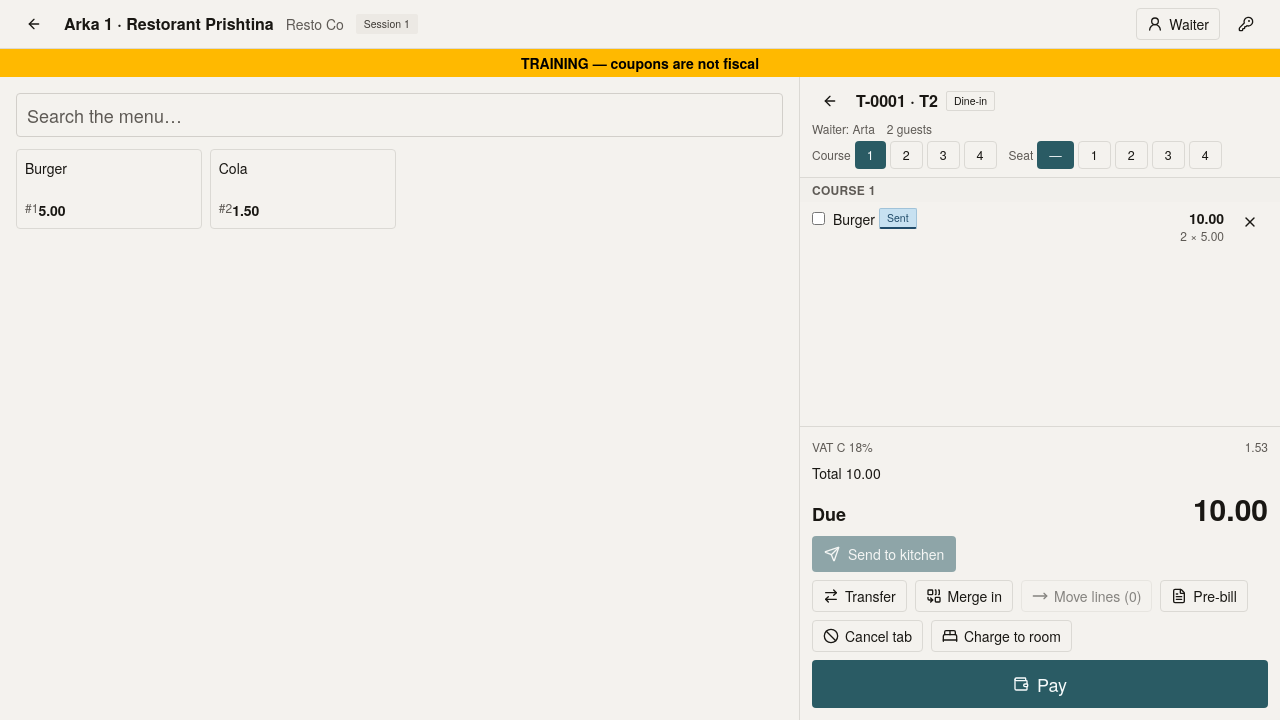
Test case: Till — restaurant (P3) › charges a tab to a checked-in room (P5) and goes back to the floor plan
Click the button "Charge to room": (1001, 636) x1=931 y1=620 x2=1072 y2=652
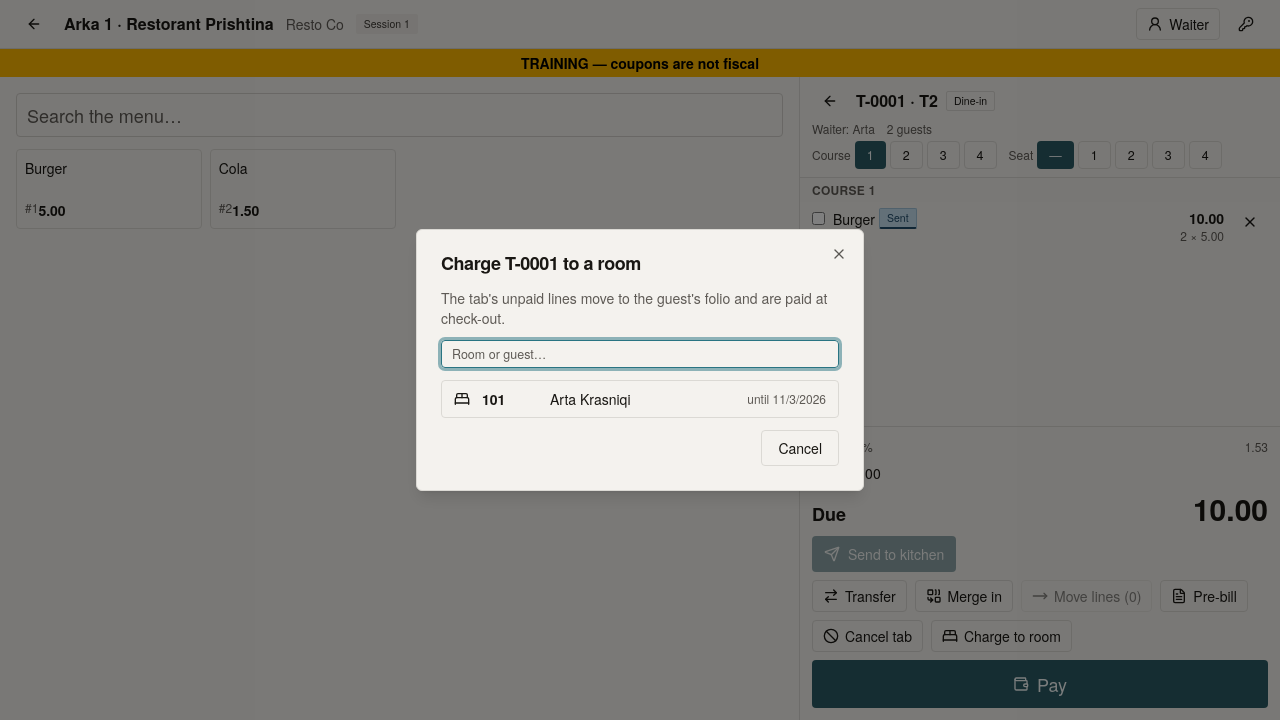
Now the number of buttons with test id "charge-room" is 1
Now the button with test id "charge-room" shows "101"
Now the button with test id "charge-room" shows "Arta Krasniqi"
Click the button with test id "charge-room": (590, 399) x1=442 y1=381 x2=838 y2=417
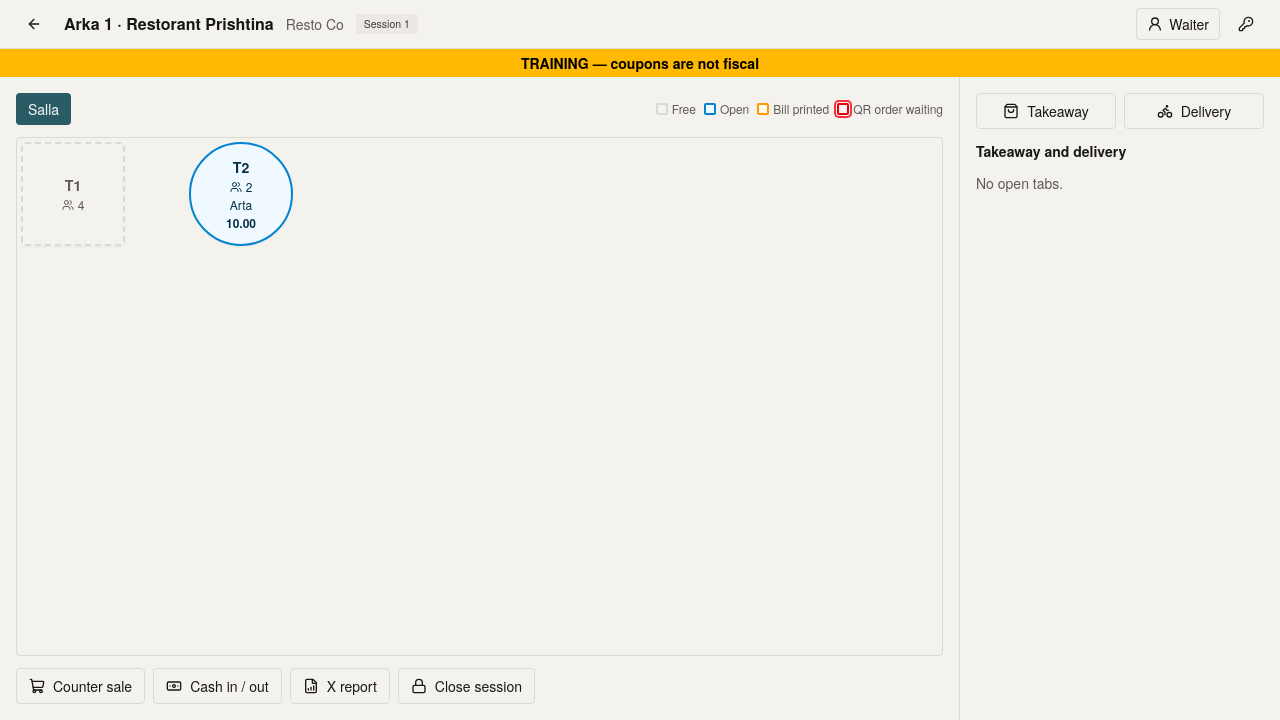
Now the number of buttons with test id "floor-table" is 2, box x1=21 y1=142 x2=125 y2=246; x1=189 y1=142 x2=293 y2=246
